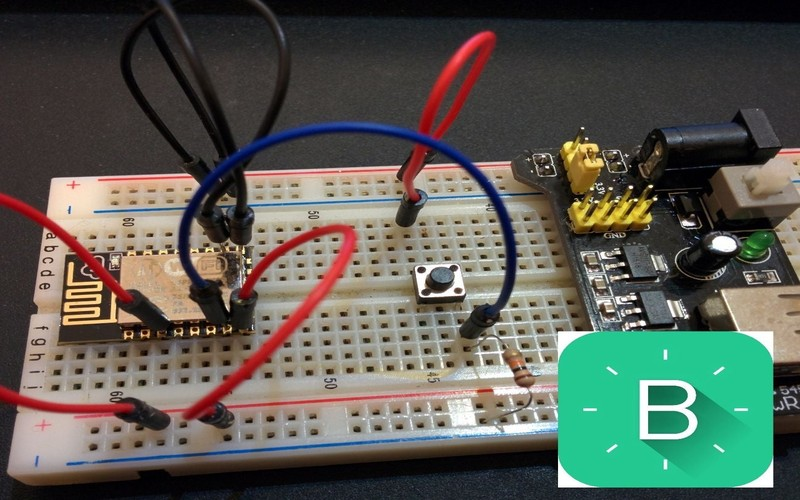Resistor: (475, 319, 555, 430)
